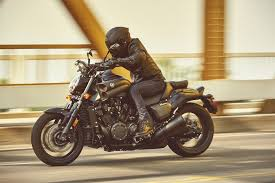motorcycle: (31, 51, 221, 167)
